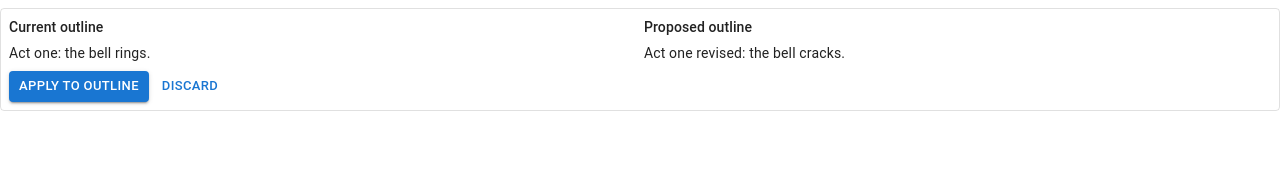
Test: OutlineRevision › a failed apply shows an error and does not show applied
Click the button "Apply to outline".
click(79, 86)  # box [9, 71, 149, 102]
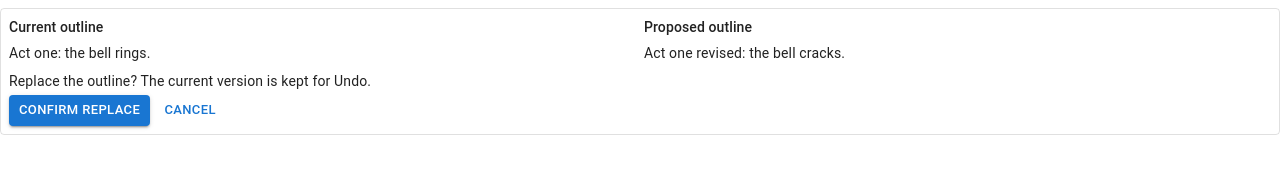
Click the button "Confirm replace".
click(80, 110)  # box [9, 95, 150, 126]
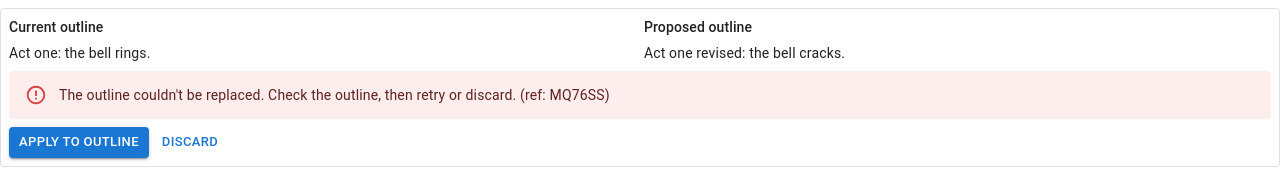
Check: the text "couldn't be replaced" is shown, box [59, 87, 610, 103]
